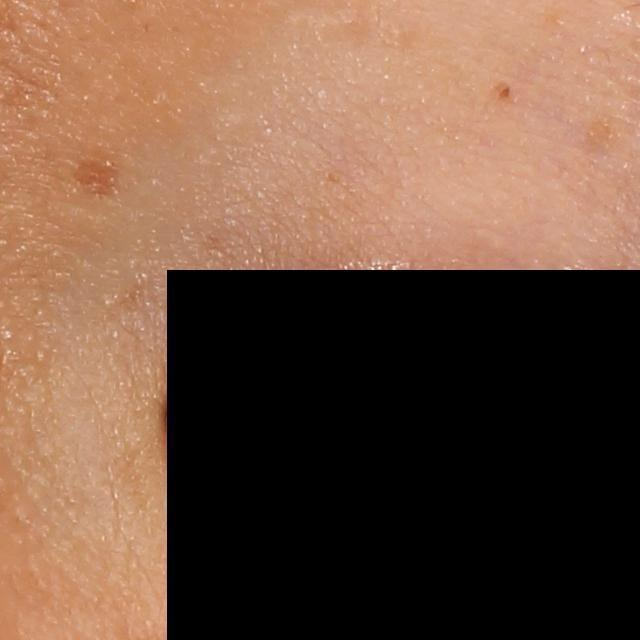melasma: (72, 145, 116, 196), (577, 115, 629, 154)
